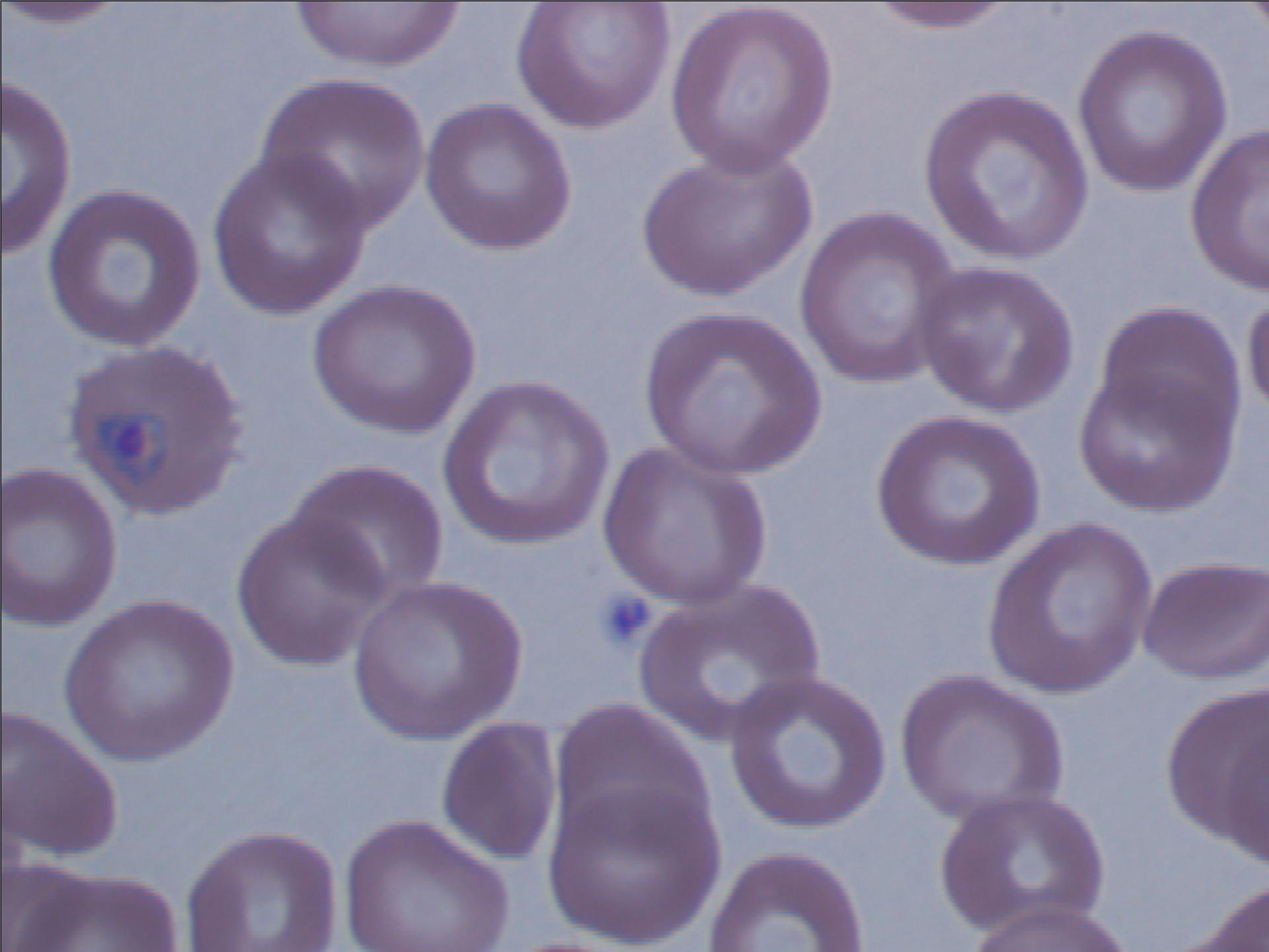Infected: (69, 348, 237, 511)
Uninfected: (550, 707, 720, 939), (241, 468, 438, 664), (1085, 311, 1237, 503), (638, 589, 814, 741), (649, 317, 815, 472), (928, 96, 1087, 257), (66, 603, 229, 760), (355, 582, 517, 736), (993, 525, 1143, 688), (262, 81, 426, 229), (802, 213, 949, 376), (675, 12, 829, 167), (447, 385, 604, 537), (606, 450, 763, 595), (315, 287, 470, 432), (51, 193, 199, 344), (882, 418, 1038, 561), (217, 163, 366, 311), (904, 678, 1062, 814), (732, 681, 884, 822), (425, 100, 568, 248), (646, 163, 808, 293), (1081, 35, 1221, 185), (924, 270, 1069, 409), (348, 824, 506, 950), (945, 801, 1102, 927), (521, 3, 666, 124), (3, 473, 114, 620), (445, 723, 553, 856), (1145, 566, 1265, 677)
